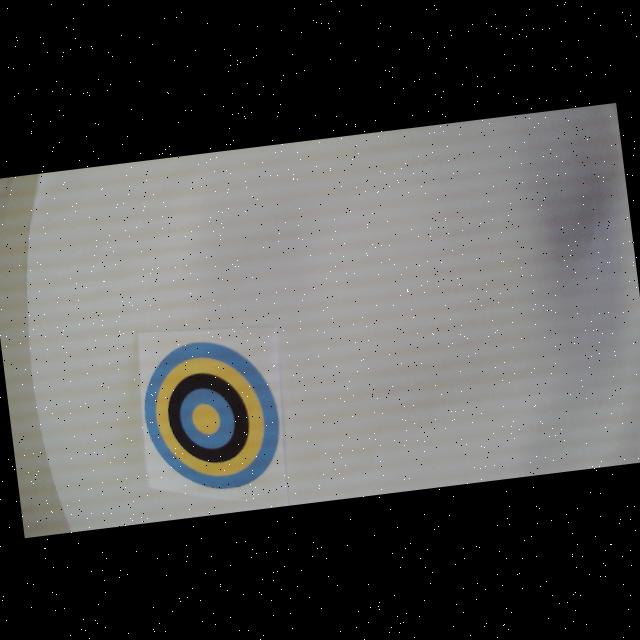COGNITIVE: (134, 332, 288, 498)
